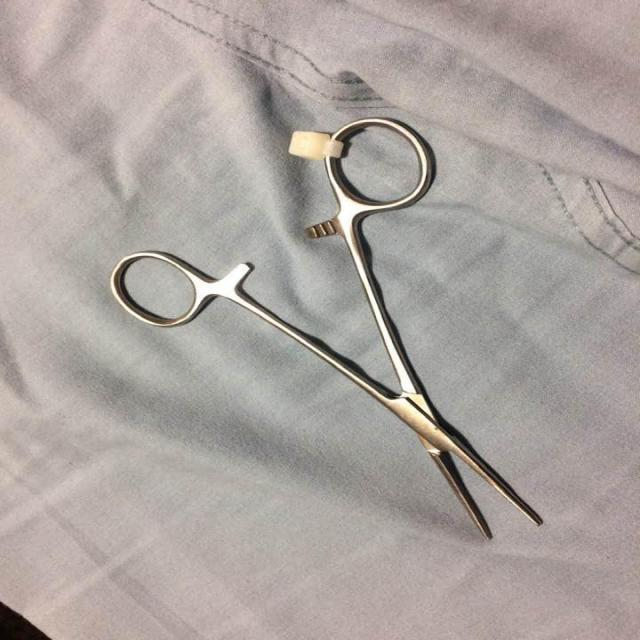Hemostat: (104, 113, 548, 546)
